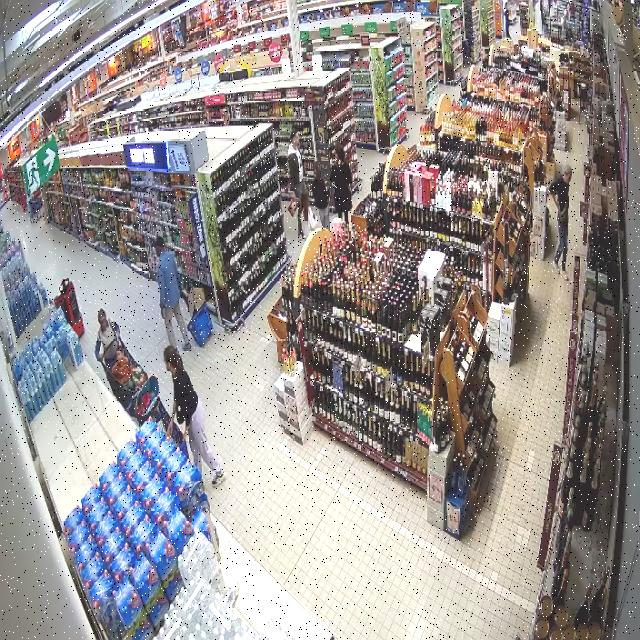article: (288, 198, 298, 216)
bags: (558, 200, 568, 223)
hands: (179, 427, 189, 443), (288, 189, 300, 200), (167, 421, 173, 437), (554, 200, 559, 209)
person: (164, 348, 224, 484), (155, 236, 189, 349), (548, 166, 571, 280), (330, 146, 353, 224), (95, 309, 118, 368), (112, 347, 137, 391), (288, 131, 304, 199), (312, 168, 329, 226), (298, 211, 303, 238)
